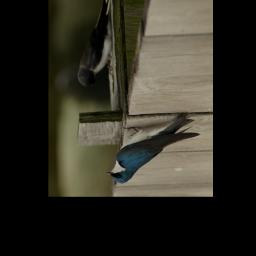Swallow: (107, 116, 200, 184)
